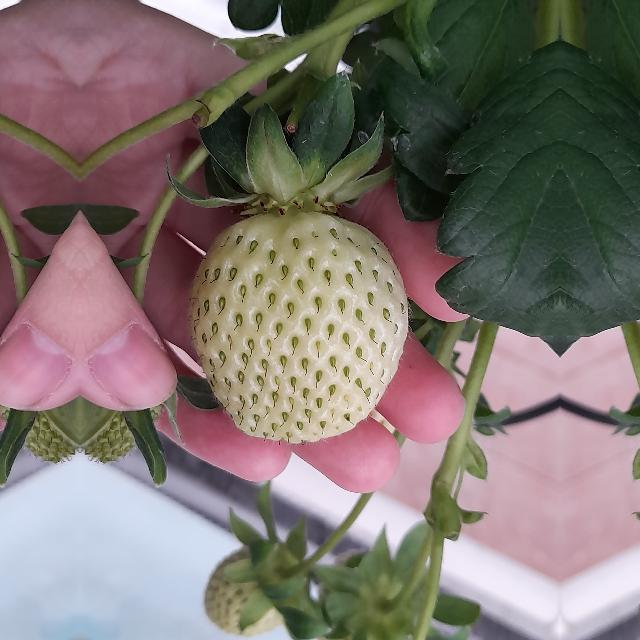Health_25: (188, 211, 408, 443)
